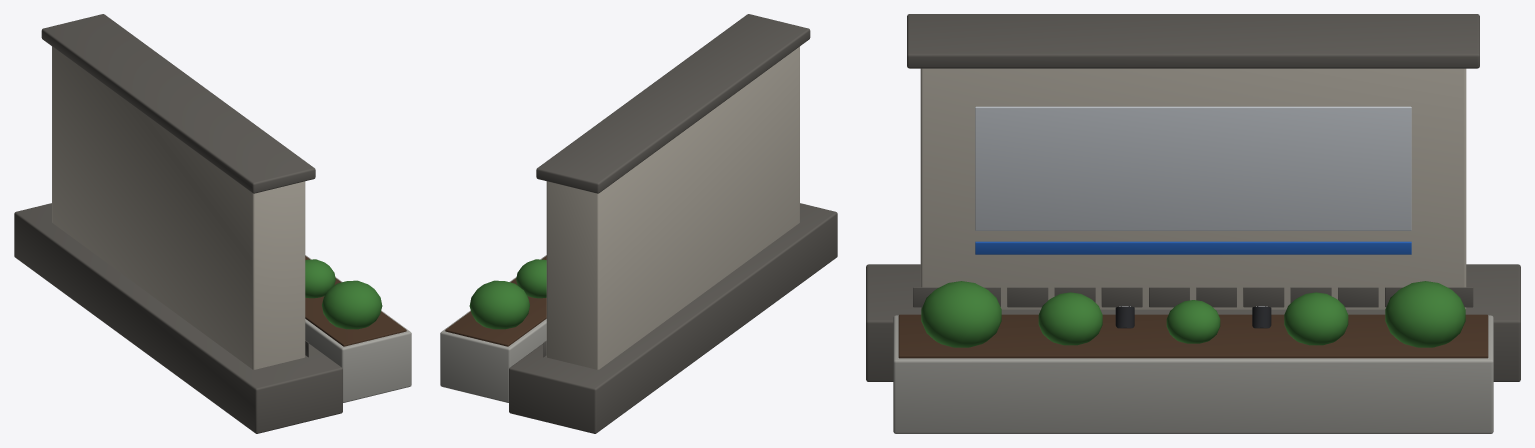
Rendered from monument-sign.glb.
3 views of the same model, side by side, from view 1: azimuth 30°, elevation 25°; view 2: azimuth 150°, elevation 25°; view 3: azimuth 270°, elevation 25° (orthographic). The views are drawn at different scales.
Visible parts, largest first — view 1: Monument_Sign; view 2: Monument_Sign; view 3: Monument_Sign.
Part boxes in pixels (x1,y1,x2,y2): Monument_Sign: (14, 14, 411, 433); Monument_Sign: (440, 14, 837, 433); Monument_Sign: (866, 14, 1520, 433).
Bounding box in the file's own units: 0.95 × 1.29 × 2.4.
